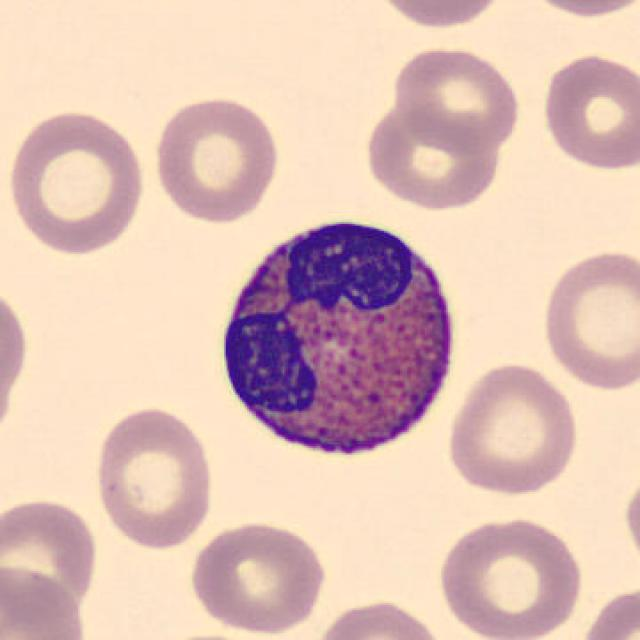Eosinophil: (206, 201, 469, 478)
RBC: (4, 104, 150, 257), (432, 513, 587, 640), (443, 358, 581, 499), (89, 402, 217, 552), (150, 91, 284, 226), (187, 517, 331, 638), (361, 100, 508, 212), (537, 243, 638, 395), (390, 42, 524, 155), (0, 494, 103, 620), (537, 49, 638, 174), (0, 562, 91, 640), (311, 596, 448, 640), (0, 277, 32, 441), (368, 0, 512, 32), (578, 582, 638, 640), (514, 0, 640, 19), (620, 462, 640, 578), (151, 629, 270, 640)
